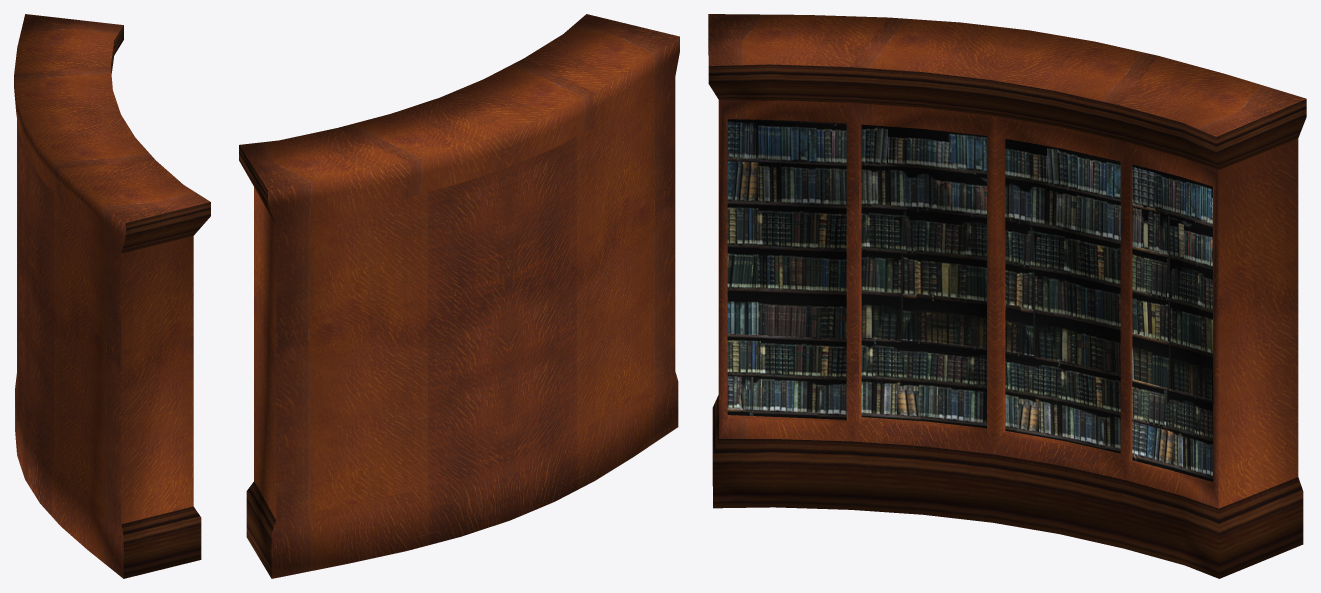
File: BookcaseCurvedShortlong.fbx
3 renders of one model, left to right at view 1: azimuth 30°, elevation 25°; view 2: azimuth 150°, elevation 25°; view 3: azimuth 270°, elevation 25°, orthographic. The views are drawn at different scales.
Visible parts, largest first — view 1: Bookcaselong1.007; view 2: Bookcaselong1.007; view 3: Bookcaselong1.007.
Boxes of the visible parts, bbox=[...] form: Bookcaselong1.007: bbox=[14, 14, 210, 578]; Bookcaselong1.007: bbox=[239, 14, 679, 578]; Bookcaselong1.007: bbox=[708, 14, 1306, 578].
Bounding box in the file's own units: 198 × 334 × 406.
